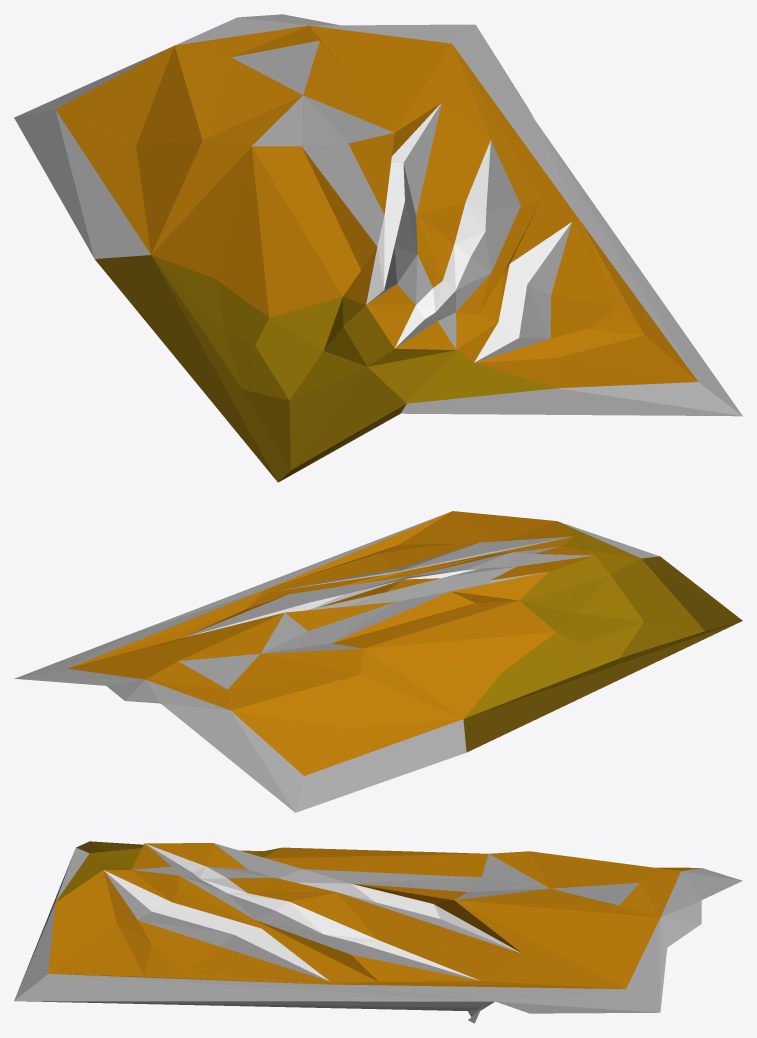
File: AntiDragonShield.fbx
3 views of the same model, one above another, from view 1: azimuth 30°, elevation 25°; view 2: azimuth 150°, elevation 25°; view 3: azimuth 270°, elevation 25° (orthographic). The views are drawn at different scales.
Visible parts, largest first — view 1: Anti-dragon_shield_1540; view 2: Anti-dragon_shield_1540; view 3: Anti-dragon_shield_1540.
Part boxes in pixels (<box>): Anti-dragon_shield_1540: <box>14,14,742,482</box>; Anti-dragon_shield_1540: <box>14,511,742,812</box>; Anti-dragon_shield_1540: <box>14,841,742,1023</box>.
Size of the model in its own units: 7400 by 1400 by 10600.
